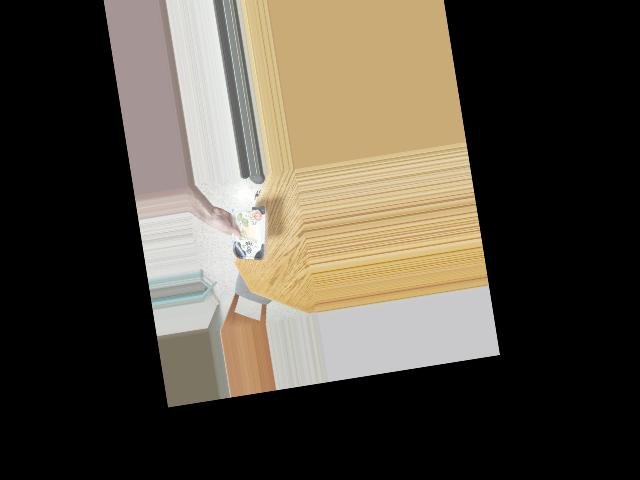cheese: (216, 200, 276, 264)
